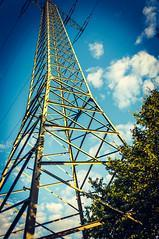power_tower: (1, 0, 136, 239)
